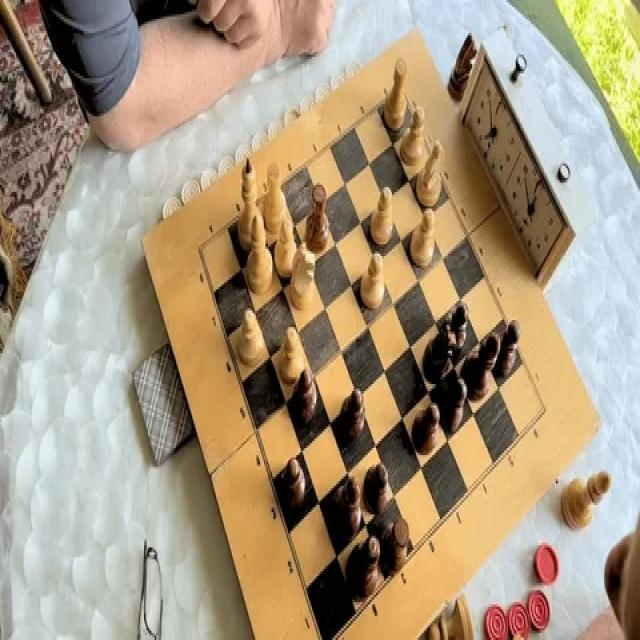chess-table-corners: (532, 392, 553, 426), (192, 236, 210, 265)
